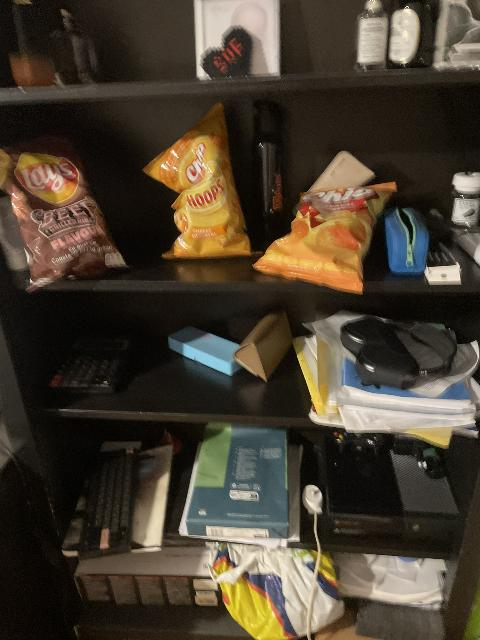Chio Cascaval 125g: (252, 180, 399, 293)
Chio Hula Hoops Cheese 70g: (144, 102, 255, 260)
Lays Beef Grilled Ribs 125g: (0, 139, 132, 289)
